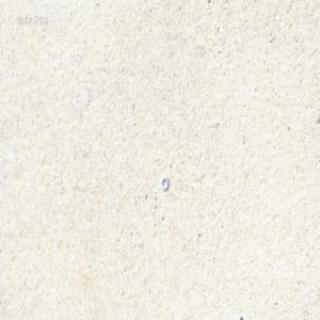Washertrack_idkeyframe: (160, 175, 168, 191)
